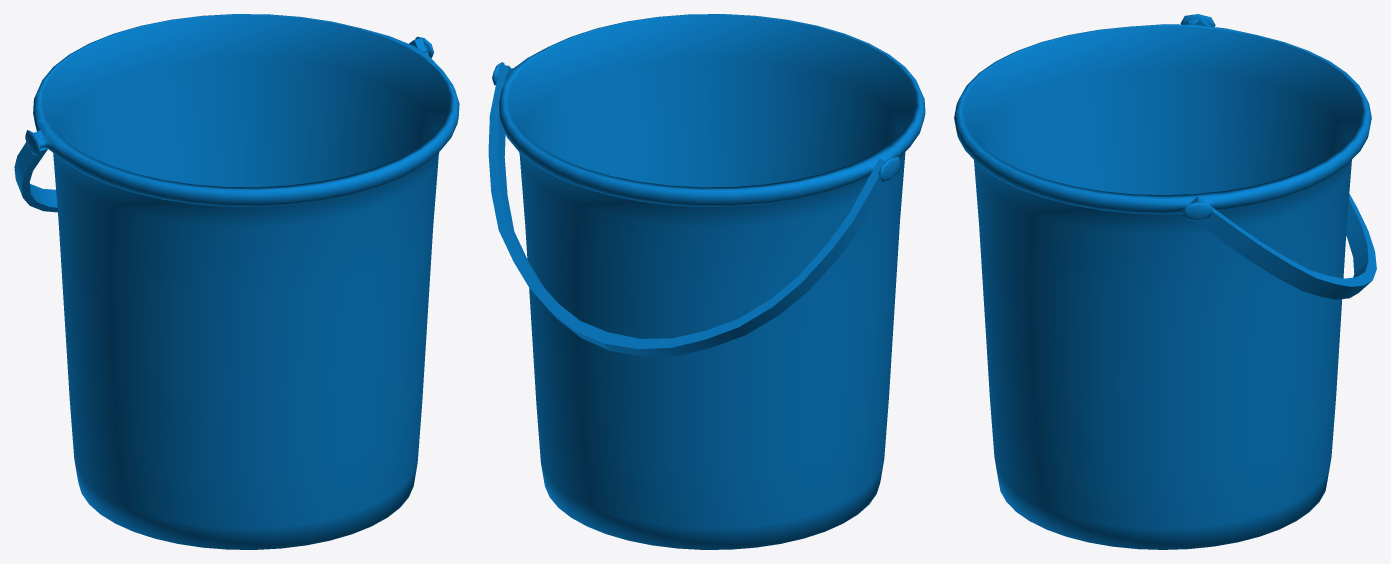
The model's file is Beach_Bucket.fbx.
The picture shows the model from 3 angles, left to right: view 1: azimuth 30°, elevation 25°; view 2: azimuth 150°, elevation 25°; view 3: azimuth 270°, elevation 25°; orthographic projection. The views are drawn at different scales.
Visible parts, largest first — view 1: Beach_Bucket; view 2: Beach_Bucket; view 3: Beach_Bucket.
Boxes of the visible parts, x1=… form: Beach_Bucket: x1=14, y1=14, x2=459, y2=549; Beach_Bucket: x1=488, y1=14, x2=925, y2=549; Beach_Bucket: x1=954, y1=14, x2=1376, y2=549.
Size of the model in its own units: 152 by 141 by 143.
